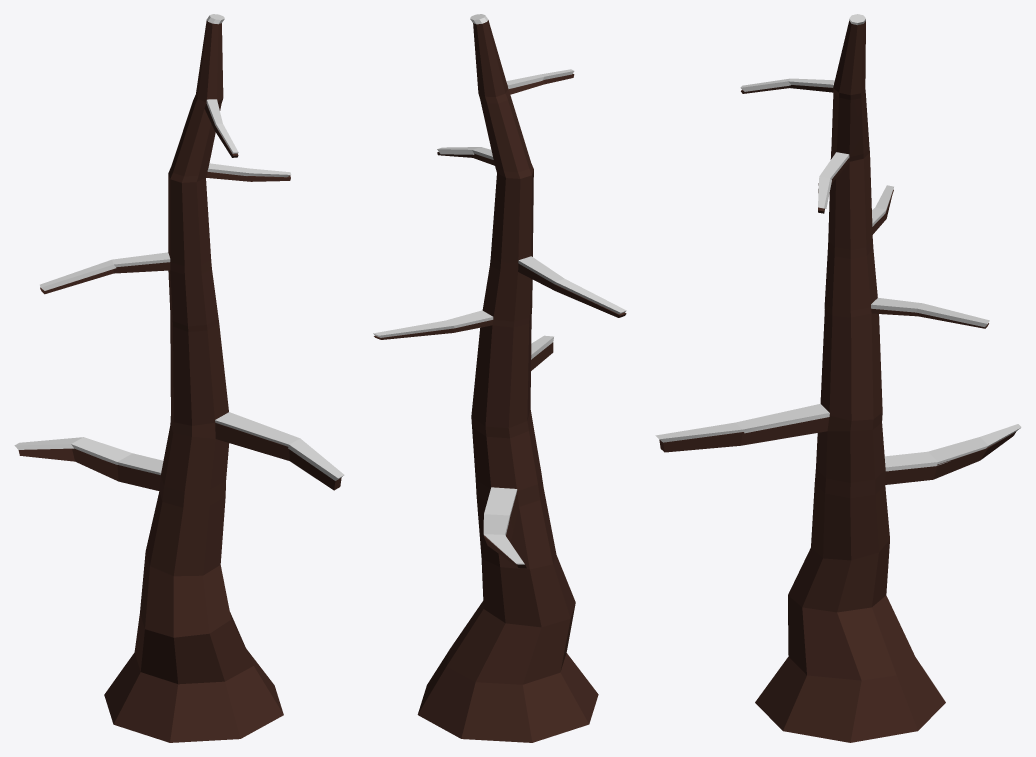
Rendered from DeadWood.fbx.
3 views of the same model, side by side, from view 1: azimuth 30°, elevation 25°; view 2: azimuth 150°, elevation 25°; view 3: azimuth 270°, elevation 25° (orthographic). The views are drawn at different scales.
Visible parts, largest first — view 1: DeadWood; view 2: DeadWood; view 3: DeadWood.
Boxes of the visible parts, box(x1,y1,x2,y2) form: DeadWood: box(14, 14, 344, 742); DeadWood: box(373, 14, 626, 742); DeadWood: box(655, 14, 1021, 742).
Size of the model in its own units: 169 by 500 by 238.
